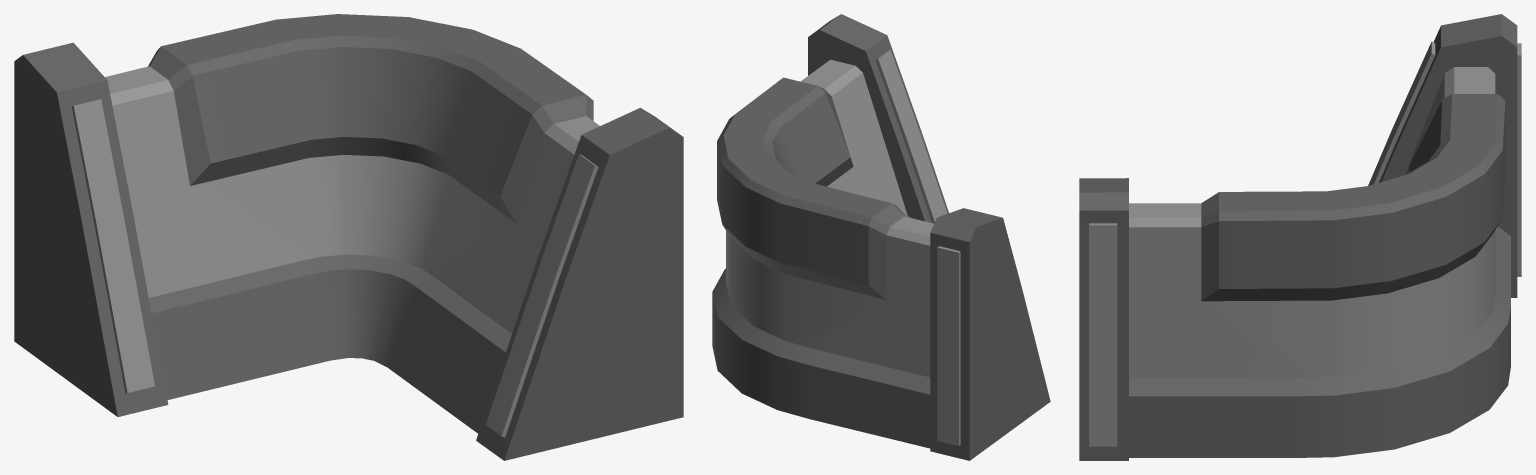
File: Metal_Barrier_Corner_Inside.fbx
The picture shows the model from 3 angles, left to right: view 1: azimuth 30°, elevation 25°; view 2: azimuth 150°, elevation 25°; view 3: azimuth 270°, elevation 25°; orthographic projection. The views are drawn at different scales.
Parts seen in each view (by area): view 1: Metal_Barrier_Corner_Inside; view 2: Metal_Barrier_Corner_Inside; view 3: Metal_Barrier_Corner_Inside.
Part boxes in pixels (<box>): Metal_Barrier_Corner_Inside: <box>14,14,683,460</box>; Metal_Barrier_Corner_Inside: <box>712,14,1050,460</box>; Metal_Barrier_Corner_Inside: <box>1079,14,1521,460</box>.
Size of the model in its own units: 151 by 98.89 by 151.
